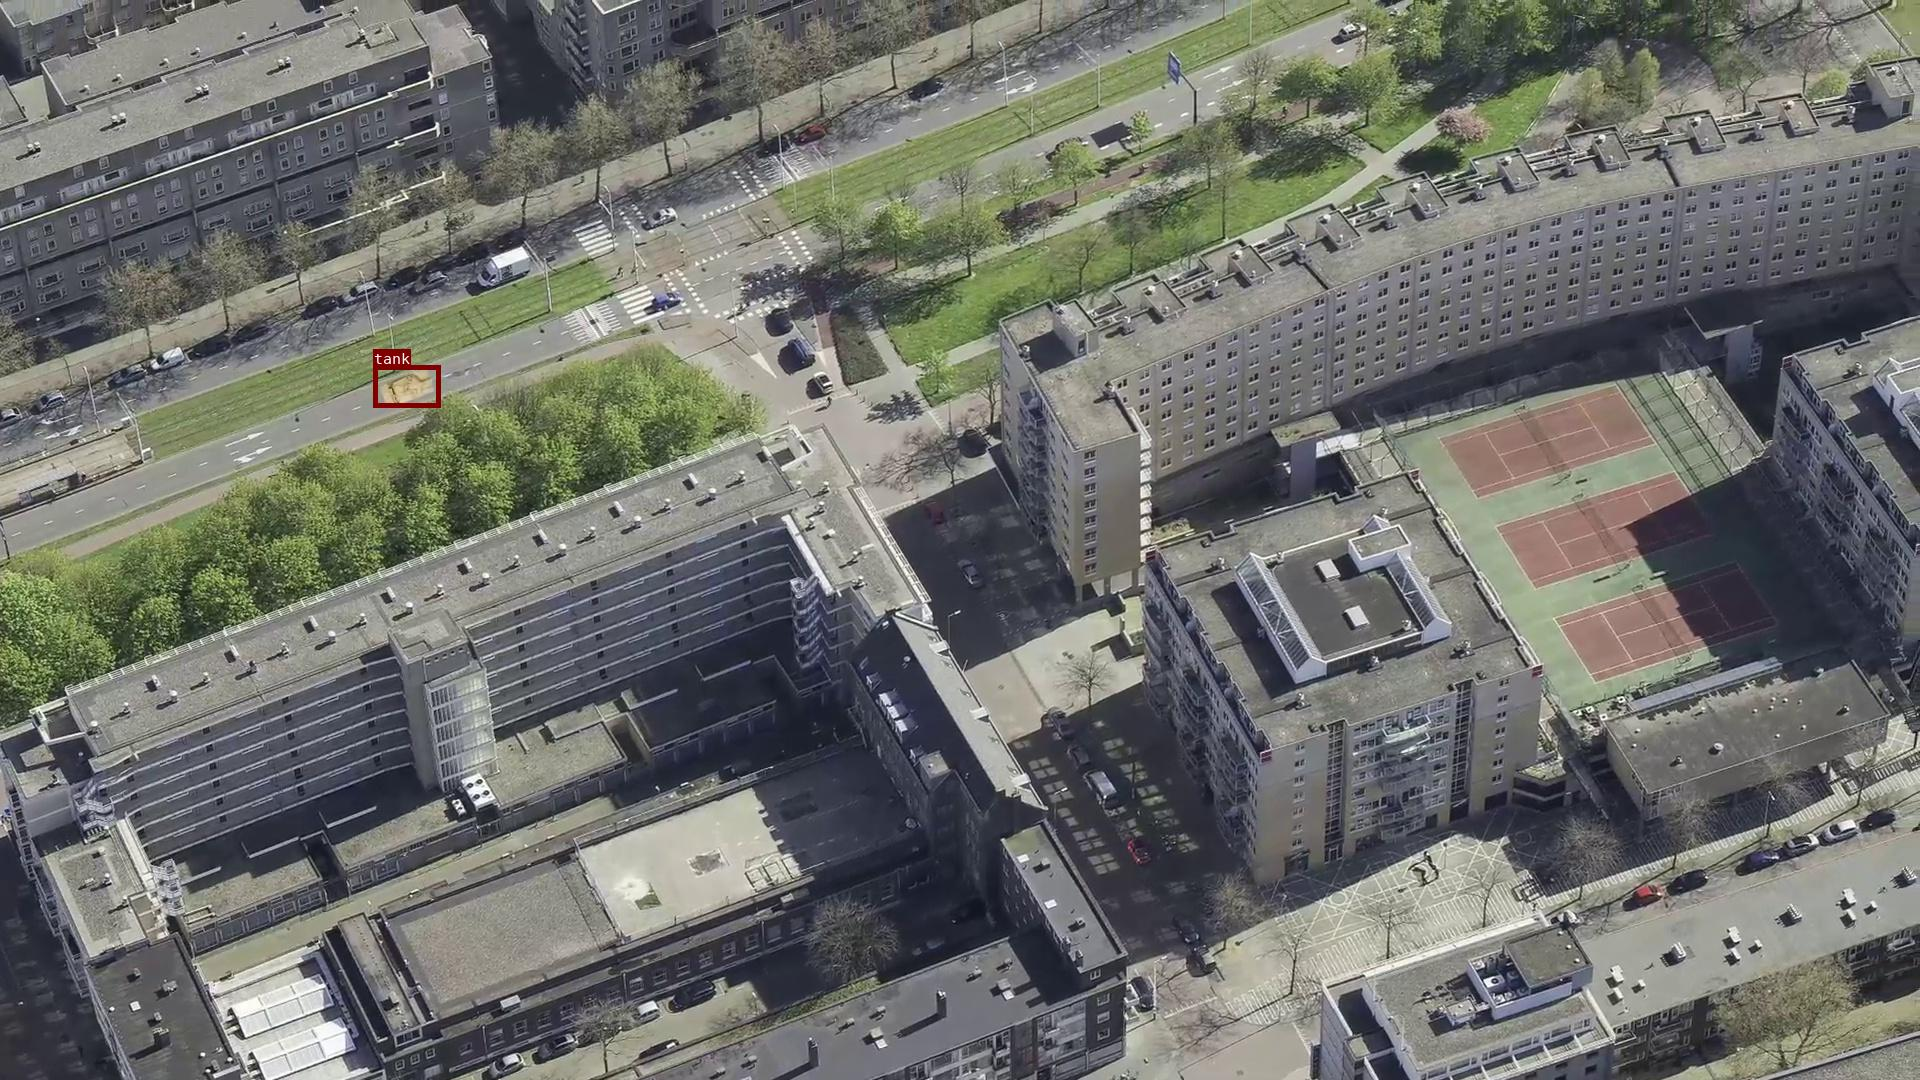tank: (373, 365, 440, 407)
